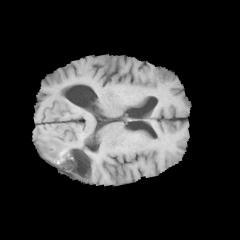glioma: (35, 137, 98, 182)
